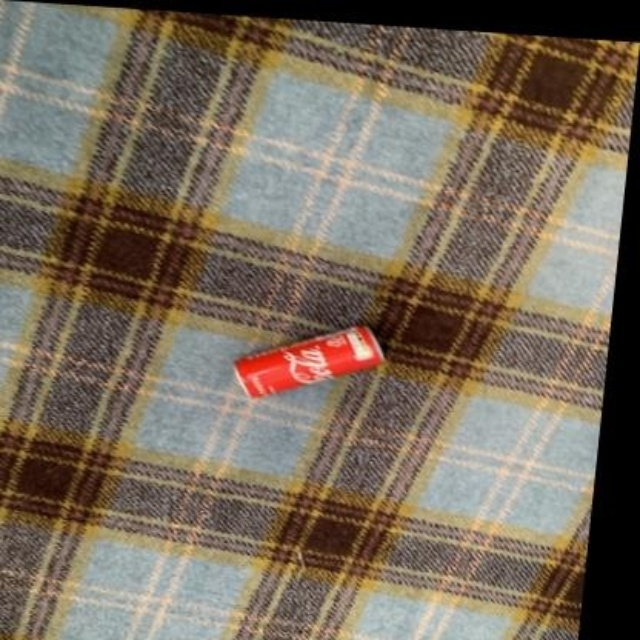trash: (234, 326, 382, 395)
